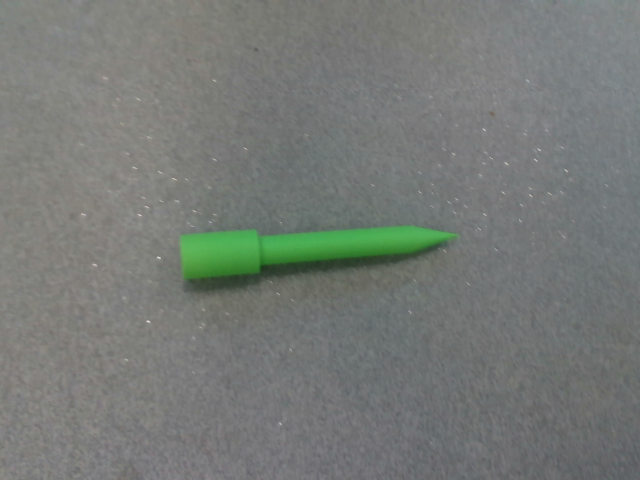Probe: (174, 218, 465, 289)
